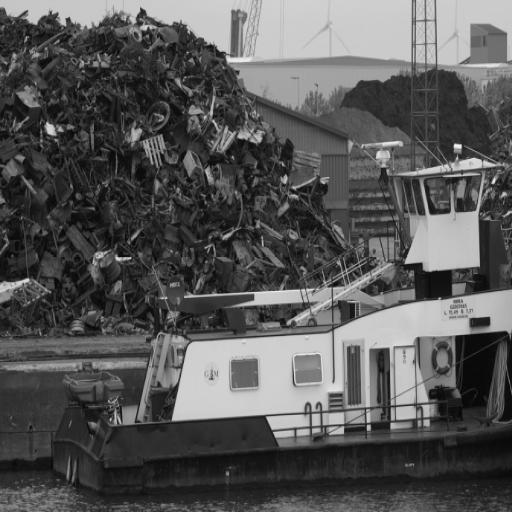tugboat: (45, 136, 512, 489)
